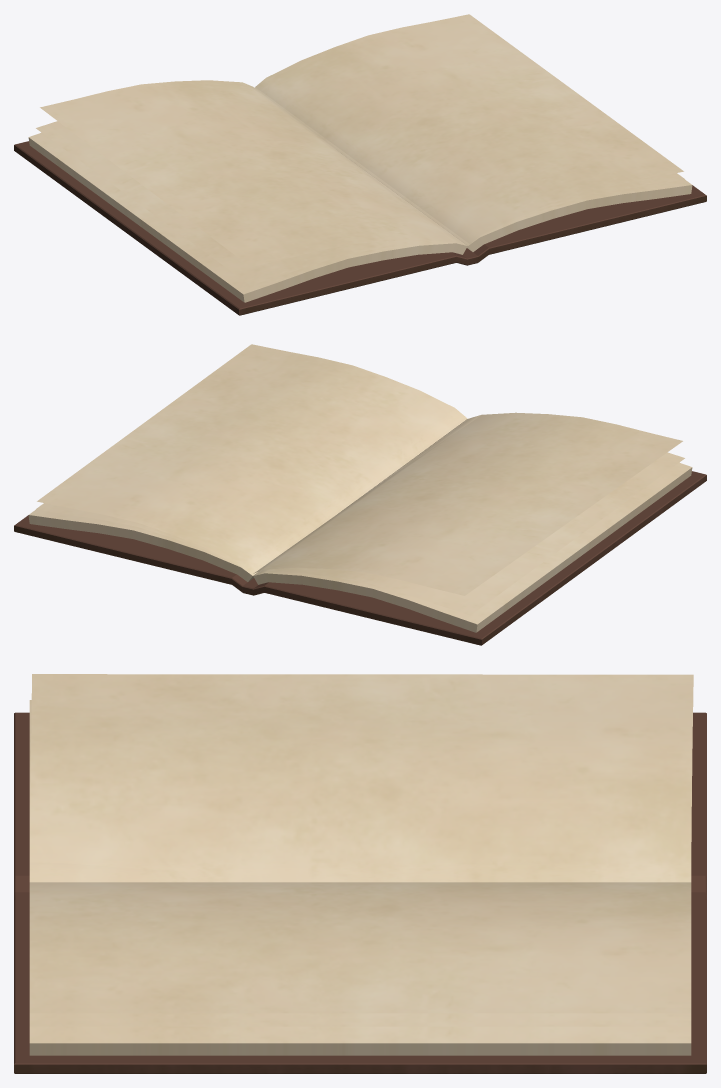
Rendered from open_book.glb.
3 renders of one model, top to bottom at view 1: azimuth 30°, elevation 25°; view 2: azimuth 150°, elevation 25°; view 3: azimuth 270°, elevation 25°, orthographic. The views are drawn at different scales.
Parts seen in each view (by area): view 1: Object_5, Object_4, Object_2, Object_3; view 2: Object_5, Object_4, Object_2, Object_3; view 3: Object_4, Object_5, Object_2, Object_3.
Boxes of the visible parts, x1,y1,x2,y2 form: Object_5: (255, 14, 684, 243); Object_4: (36, 80, 464, 285); Object_2: (14, 141, 706, 315); Object_3: (28, 87, 692, 302); Object_5: (36, 344, 465, 573); Object_4: (253, 412, 684, 615); Object_2: (14, 471, 706, 645); Object_3: (28, 417, 692, 632); Object_4: (29, 674, 693, 881); Object_5: (29, 882, 691, 1026); Object_2: (14, 712, 706, 1073); Object_3: (29, 880, 691, 1055).
Bounding box in the file's own units: 6.87 × 0.6653 × 5.73.
Materials: 4 (4 with a texture image).
